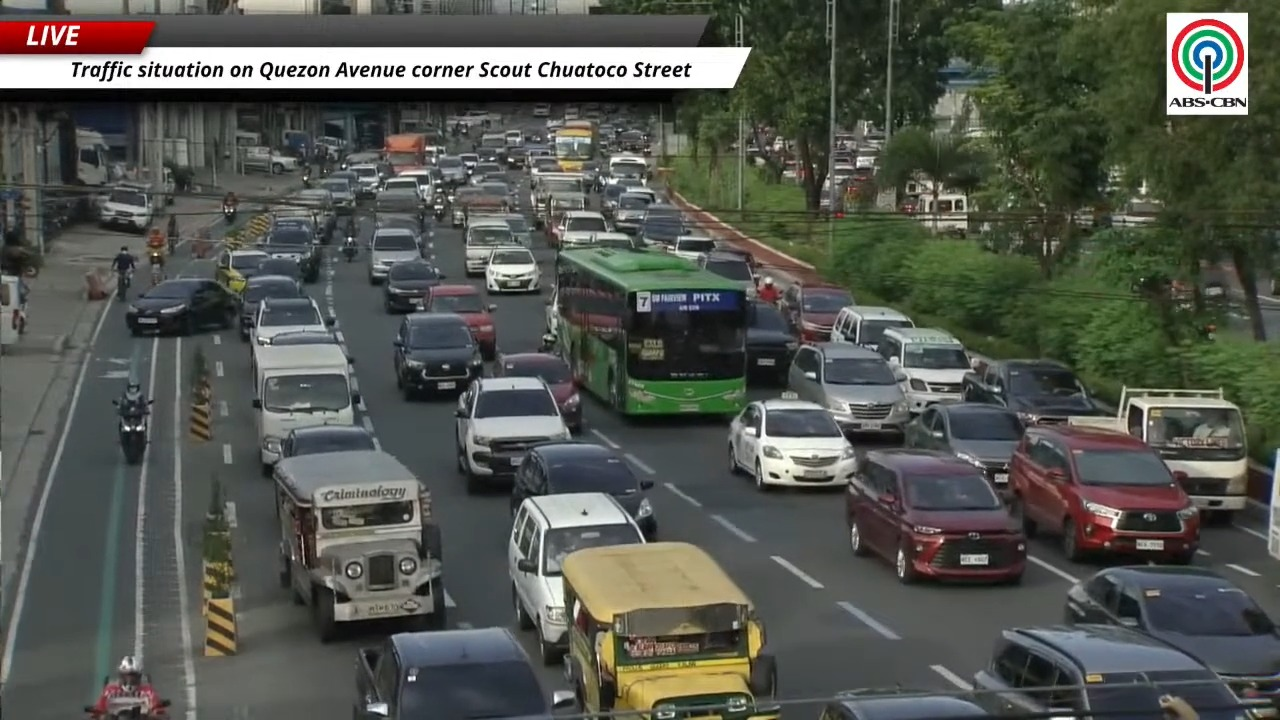bus: (553, 247, 748, 415), (553, 121, 597, 171)
car: (1064, 565, 1279, 698), (1010, 424, 1200, 564), (972, 625, 1250, 719), (845, 449, 1026, 583), (507, 492, 644, 664), (352, 627, 573, 719), (510, 439, 657, 540), (455, 377, 570, 493), (727, 398, 856, 491), (904, 403, 1024, 498), (787, 342, 910, 433), (962, 359, 1101, 423), (876, 327, 972, 412), (393, 312, 482, 399), (493, 353, 582, 432), (125, 278, 236, 335), (423, 284, 496, 360), (820, 687, 989, 719), (239, 275, 305, 341), (779, 284, 855, 341), (746, 301, 798, 383), (250, 296, 335, 345), (258, 223, 321, 282), (463, 215, 522, 276), (831, 306, 914, 349), (281, 425, 379, 458), (367, 225, 421, 284), (383, 260, 444, 312), (698, 245, 756, 298), (99, 183, 153, 233), (486, 247, 540, 293), (215, 250, 269, 292), (549, 210, 610, 244), (387, 168, 436, 203), (611, 192, 652, 233), (715, 242, 759, 274), (319, 177, 354, 215), (668, 234, 715, 261), (380, 175, 428, 201), (272, 328, 340, 346), (254, 258, 302, 282), (349, 163, 382, 197), (592, 231, 643, 250), (436, 155, 466, 187), (503, 213, 531, 247), (544, 286, 560, 337), (601, 184, 626, 216), (472, 160, 504, 184), (557, 231, 599, 249), (528, 156, 560, 176), (506, 146, 527, 170), (458, 153, 478, 176), (532, 103, 551, 118)
motorcycle: (112, 399, 146, 464), (84, 696, 170, 719), (116, 271, 131, 300), (342, 236, 358, 263), (537, 333, 556, 353), (222, 204, 237, 225), (148, 248, 163, 265), (433, 199, 445, 220), (301, 170, 311, 188)
truck: (1069, 387, 1247, 517), (75, 128, 111, 186), (383, 133, 427, 171), (241, 146, 298, 174)
